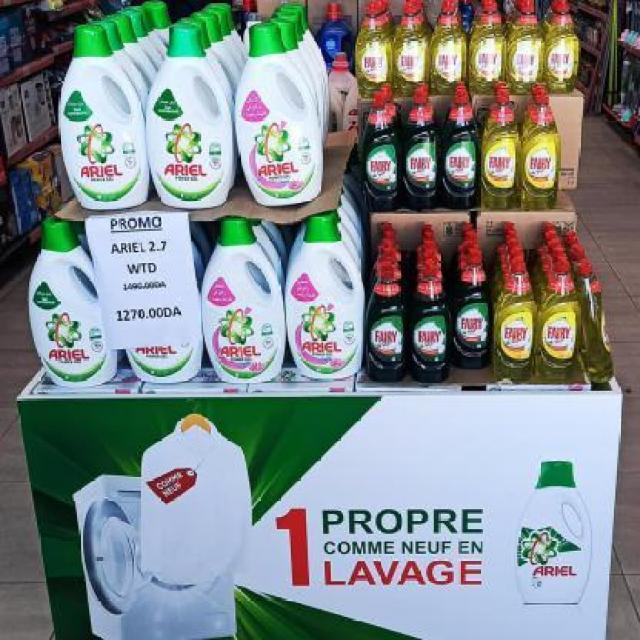Detergent: (60, 21, 146, 215), (235, 25, 323, 207), (28, 207, 108, 389), (150, 22, 228, 204), (284, 213, 366, 379), (204, 220, 286, 380)
